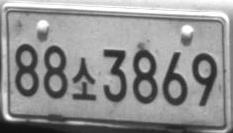3: (102, 48, 127, 102)
6: (161, 51, 188, 106)
8: (13, 42, 40, 97), (132, 48, 158, 104), (42, 44, 68, 98)
9: (191, 52, 218, 107)
소: (71, 57, 96, 101)
